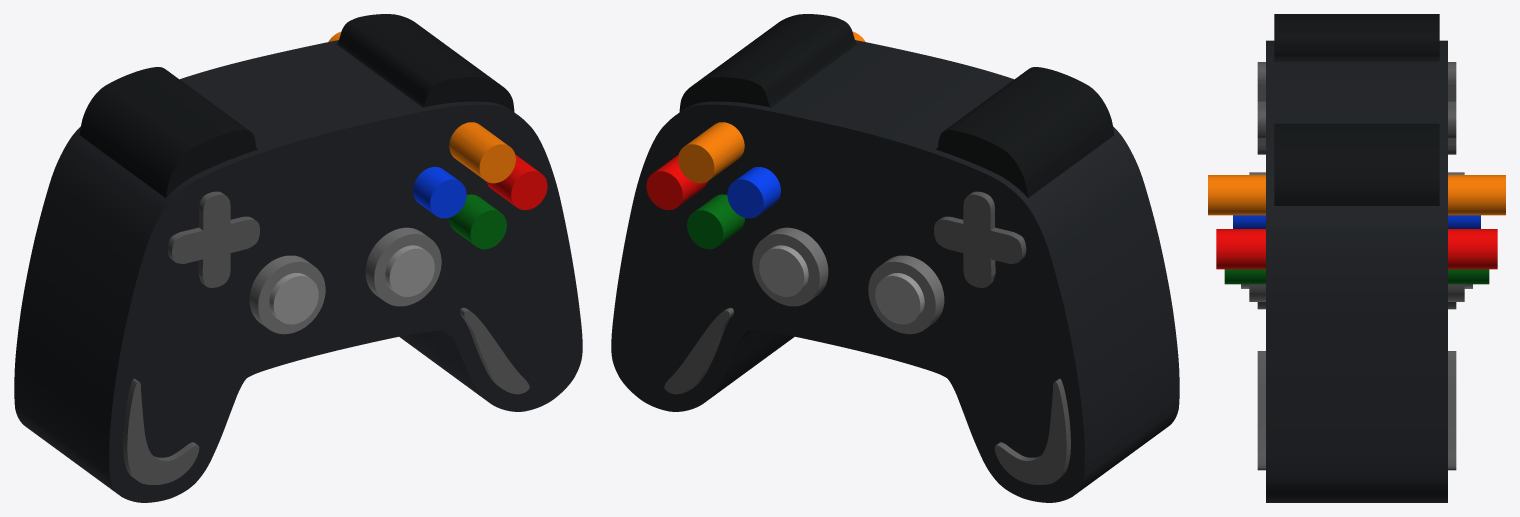
The picture shows the model from 3 angles, left to right: view 1: azimuth 30°, elevation 25°; view 2: azimuth 150°, elevation 25°; view 3: azimuth 270°, elevation 25°; orthographic projection. The views are drawn at different scales.
Visible parts, largest first — view 1: U+1F3AE_layer01_obj00, U+1F3AE_layer00_obj00, U+1F3AE_layer00_obj01, U+1F3AE_layer02_obj00, U+1F3AE_layer02_obj01, U+1F3AE_layer08_obj00, U+1F3AE_layer03_obj01, U+1F3AE_layer03_obj00, U+1F3AE_layer06_obj00, U+1F3AE_layer02_obj02, U+1F3AE_layer05_obj00, U+1F3AE_layer04_obj01 (+2 smaller); view 2: U+1F3AE_layer01_obj00, U+1F3AE_layer00_obj00, U+1F3AE_layer00_obj01, U+1F3AE_layer02_obj00, U+1F3AE_layer02_obj01, U+1F3AE_layer08_obj00, U+1F3AE_layer03_obj01, U+1F3AE_layer03_obj00, U+1F3AE_layer06_obj00, U+1F3AE_layer02_obj02, U+1F3AE_layer05_obj00, U+1F3AE_layer04_obj01 (+2 smaller); view 3: U+1F3AE_layer01_obj00, U+1F3AE_layer00_obj01, U+1F3AE_layer00_obj00, U+1F3AE_layer08_obj00, U+1F3AE_layer07_obj00, U+1F3AE_layer02_obj02, U+1F3AE_layer02_obj00, U+1F3AE_layer06_obj00, U+1F3AE_layer05_obj00, U+1F3AE_layer03_obj01.
Boxes of the visible parts, x1=… form: U+1F3AE_layer01_obj00: x1=14, y1=40, x2=582, y2=502; U+1F3AE_layer00_obj00: x1=79, y1=67, x2=258, y2=197; U+1F3AE_layer00_obj01: x1=337, y1=14, x2=514, y2=111; U+1F3AE_layer02_obj00: x1=167, y1=191, x2=259, y2=287; U+1F3AE_layer02_obj01: x1=123, y1=378, x2=199, y2=484; U+1F3AE_layer08_obj00: x1=328, y1=31, x2=515, y2=183; U+1F3AE_layer03_obj01: x1=365, y1=227, x2=441, y2=306; U+1F3AE_layer03_obj00: x1=249, y1=255, x2=325, y2=334; U+1F3AE_layer06_obj00: x1=449, y1=194, x2=506, y2=249; U+1F3AE_layer02_obj02: x1=460, y1=307, x2=529, y2=394; U+1F3AE_layer05_obj00: x1=413, y1=167, x2=466, y2=218; U+1F3AE_layer04_obj01: x1=385, y1=245, x2=434, y2=296; U+1F3AE_layer01_obj00: x1=611, y1=40, x2=1179, y2=502; U+1F3AE_layer00_obj00: x1=935, y1=67, x2=1114, y2=197; U+1F3AE_layer00_obj01: x1=679, y1=14, x2=856, y2=111; U+1F3AE_layer02_obj00: x1=934, y1=191, x2=1026, y2=287; U+1F3AE_layer02_obj01: x1=994, y1=378, x2=1070, y2=484; U+1F3AE_layer08_obj00: x1=678, y1=31, x2=865, y2=183; U+1F3AE_layer03_obj01: x1=752, y1=227, x2=828, y2=306; U+1F3AE_layer03_obj00: x1=868, y1=255, x2=944, y2=334; U+1F3AE_layer06_obj00: x1=687, y1=194, x2=744, y2=249; U+1F3AE_layer02_obj02: x1=664, y1=307, x2=733, y2=394; U+1F3AE_layer05_obj00: x1=727, y1=167, x2=780, y2=218; U+1F3AE_layer04_obj01: x1=759, y1=245, x2=808, y2=296; U+1F3AE_layer01_obj00: x1=1266, y1=40, x2=1447, y2=502; U+1F3AE_layer00_obj01: x1=1274, y1=123, x2=1439, y2=205; U+1F3AE_layer00_obj00: x1=1274, y1=14, x2=1439, y2=61; U+1F3AE_layer08_obj00: x1=1208, y1=175, x2=1505, y2=215; U+1F3AE_layer07_obj00: x1=1216, y1=229, x2=1497, y2=269; U+1F3AE_layer02_obj02: x1=1257, y1=351, x2=1456, y2=470; U+1F3AE_layer02_obj00: x1=1257, y1=62, x2=1456, y2=154; U+1F3AE_layer06_obj00: x1=1224, y1=269, x2=1489, y2=284; U+1F3AE_layer05_obj00: x1=1233, y1=215, x2=1480, y2=228; U+1F3AE_layer03_obj01: x1=1249, y1=284, x2=1464, y2=301.
Size of the model in its own units: 0.3171 by 0.2224 by 0.18.
